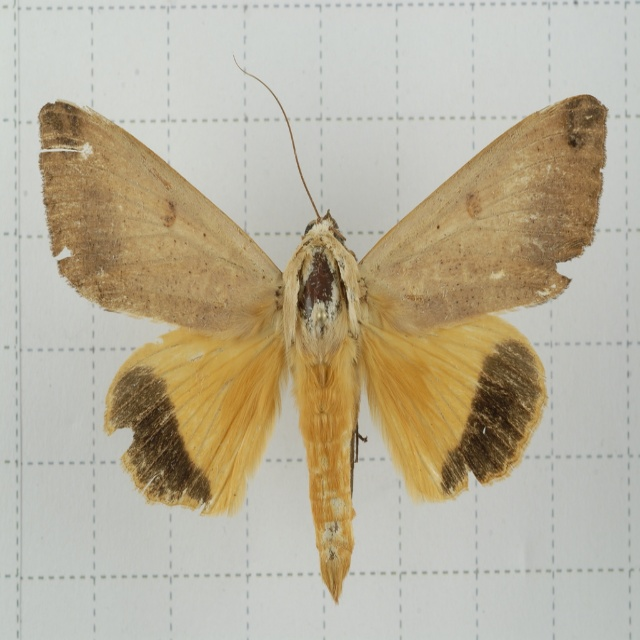Butterfly: (37, 48, 605, 583)
